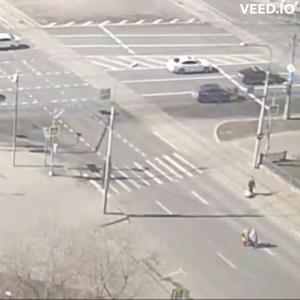car: (196, 86, 238, 106), (167, 57, 213, 75), (239, 67, 269, 86), (1, 34, 21, 51)
